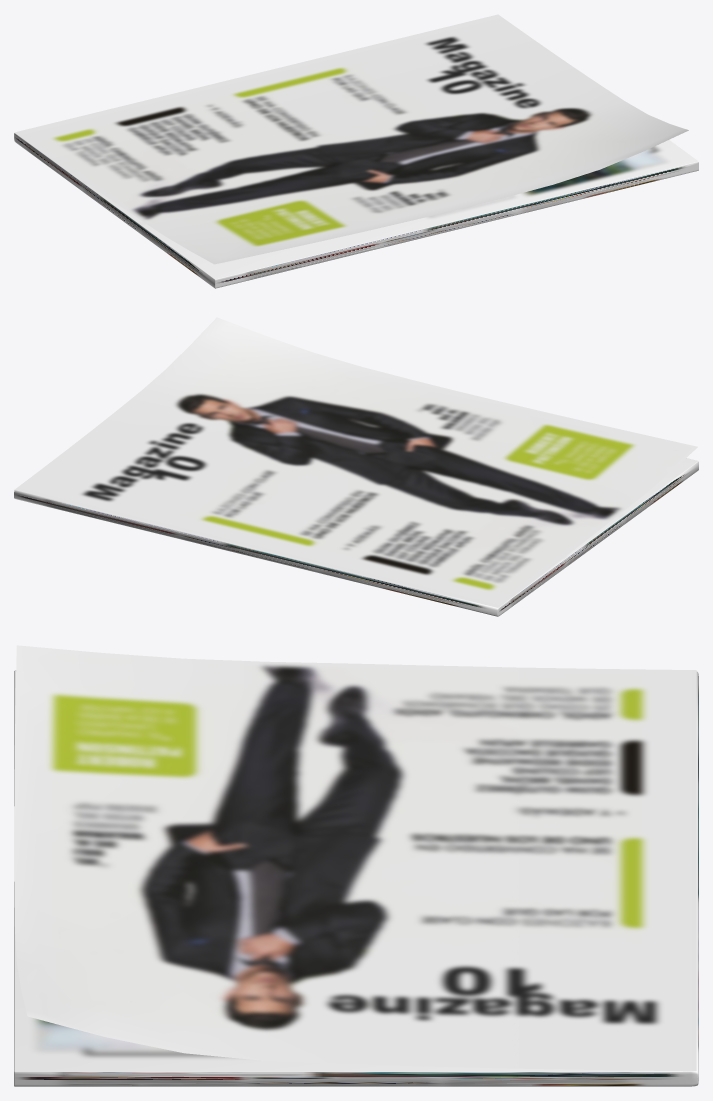
File: Magazine.FBX
The picture shows the model from 3 angles, top to bottom: view 1: azimuth 30°, elevation 25°; view 2: azimuth 150°, elevation 25°; view 3: azimuth 270°, elevation 25°; orthographic projection. The views are drawn at different scales.
Visible parts, largest first — view 1: magazine; view 2: magazine; view 3: magazine.
Part boxes in pixels (x1=…): magazine: x1=14, y1=14, x2=698, y2=288; magazine: x1=14, y1=317, x2=698, y2=616; magazine: x1=14, y1=645, x2=698, y2=1086.
Bounding box in the file's own units: 27.72 × 2.13 × 20.
1 material, 1 textured.
